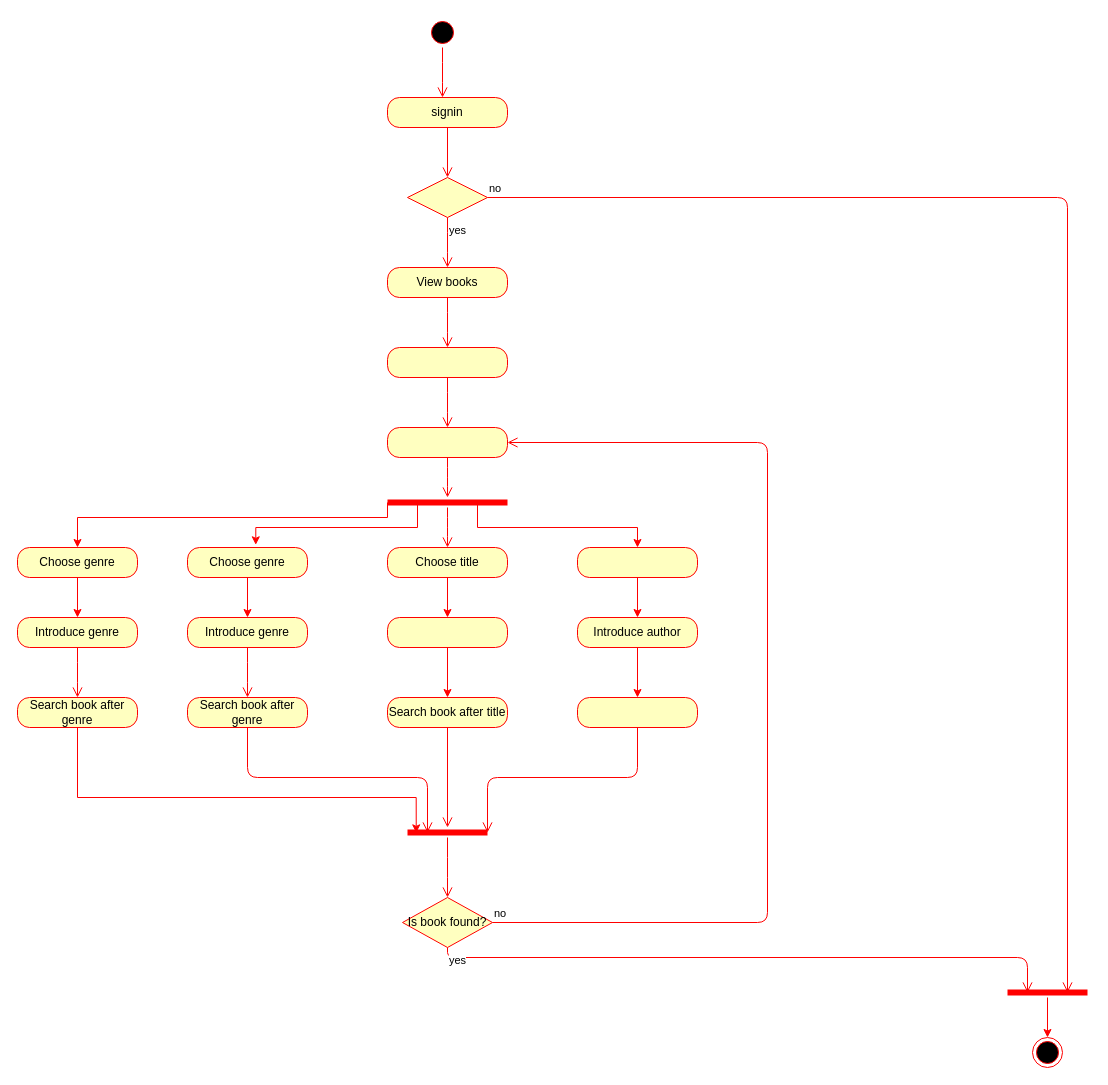
Some shapes in this 1108 by 1085 pixel diagram are drawn without their labels. Each missing label, with the box of its shape:
Choose author: (576, 546, 698, 578)
Choose search book: (386, 346, 508, 378)
Introduce title: (386, 616, 508, 648)
Search book after author: (576, 696, 698, 728)
Select filter for search: (386, 426, 508, 458)
Success: (406, 176, 488, 218)
